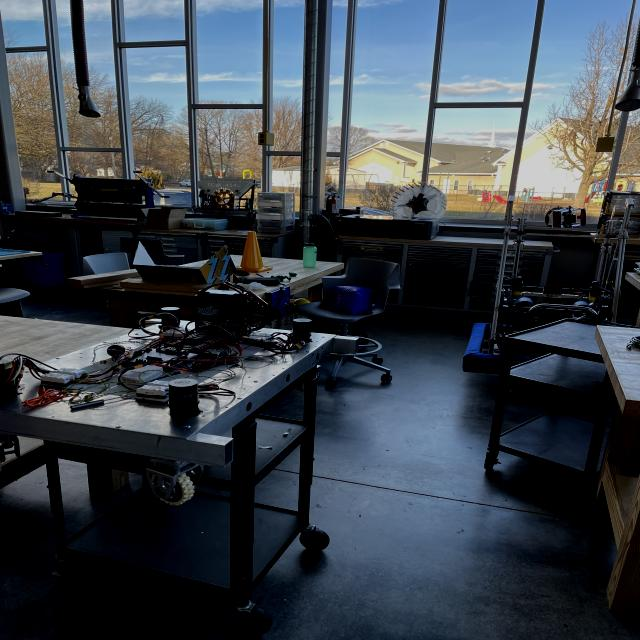frc_cone: (231, 227, 272, 280)
frc_cube: (323, 282, 379, 318)
